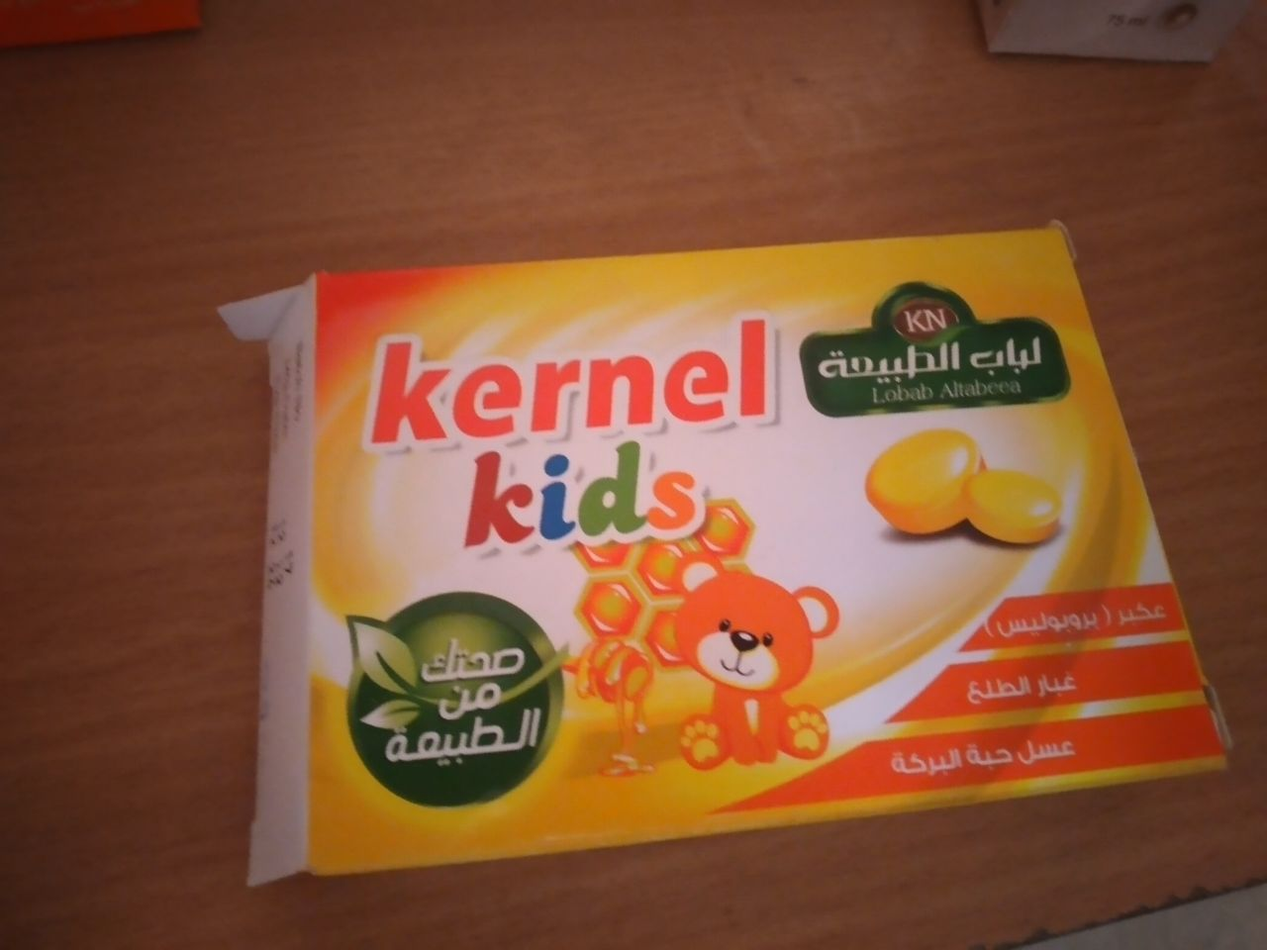Medicine: (297, 218, 1178, 866)
